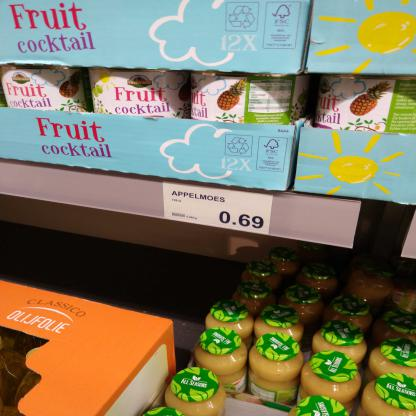prtg: (164, 182, 273, 235)
